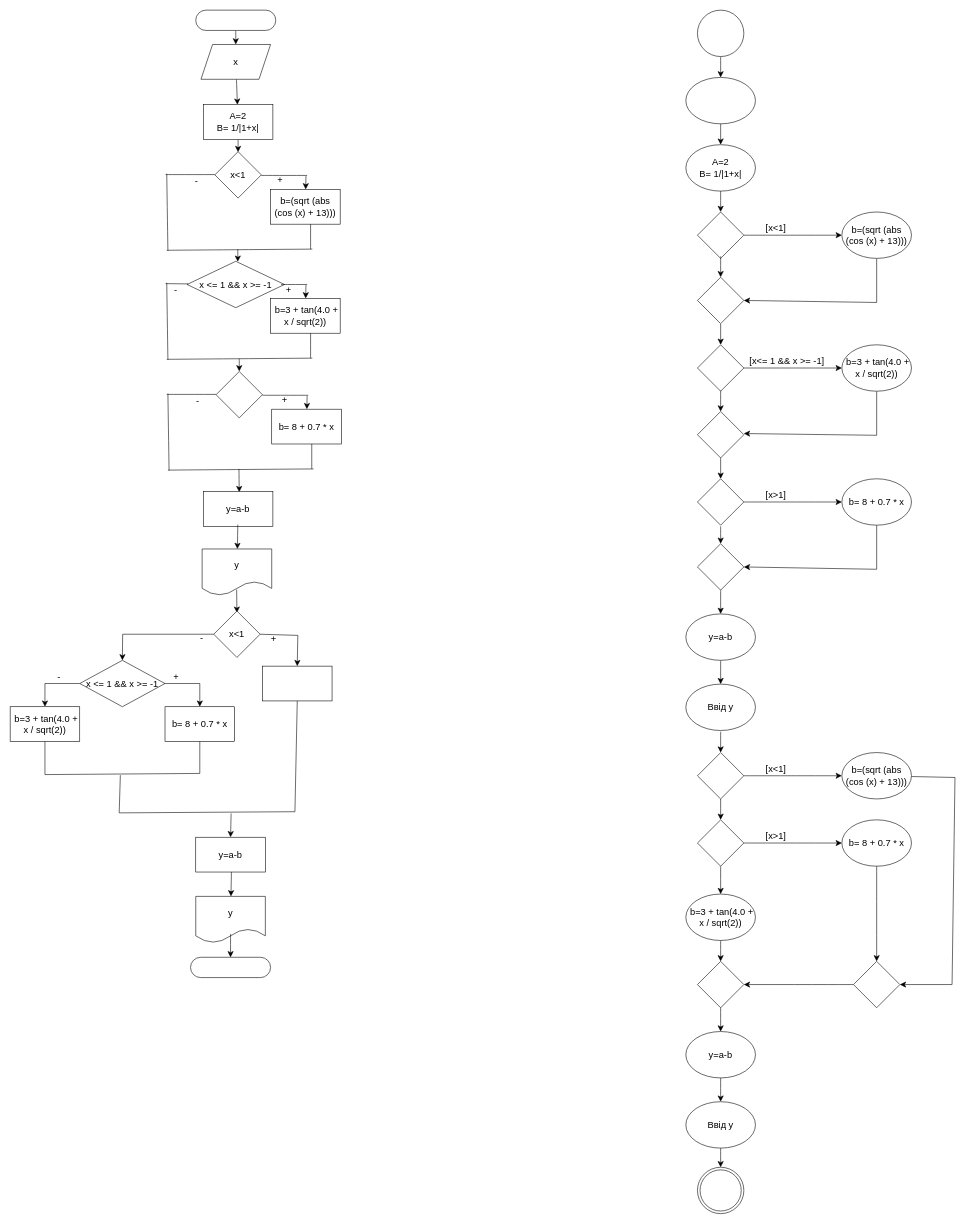
Image size: 971x1224. Some labels were removed from this diagram. The box of each missing label's shape, as (x1, y1, x2, y2) in pixels:
C=(sqrt (abs (cos (x) + 13))): (262, 666, 332, 701)
x>1: (215, 371, 262, 418)
Ввід х: (685, 77, 755, 124)
Кінець: (190, 957, 271, 978)
Початок: (195, 10, 276, 30)
